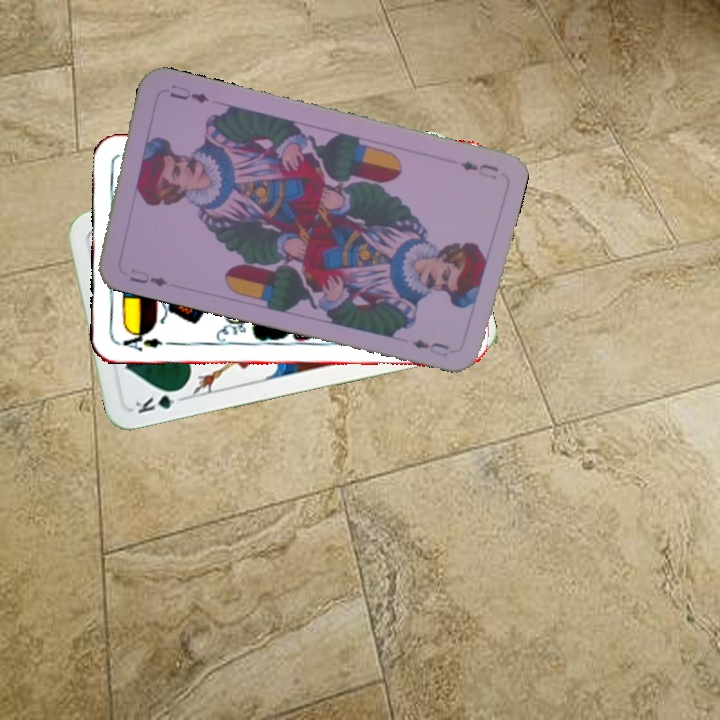EA: (115, 328, 165, 354)
EU: (456, 156, 501, 182), (125, 266, 170, 289)
GK: (131, 385, 188, 416)
